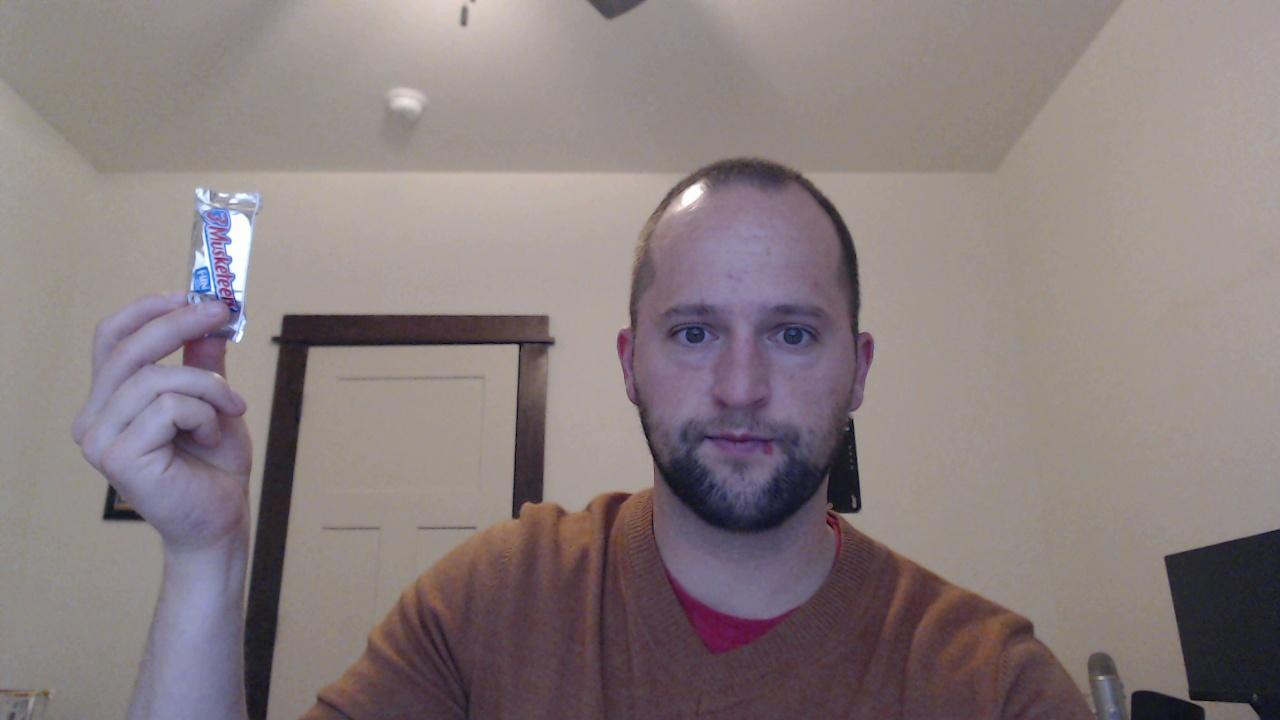musketeers: (185, 187, 260, 344)
